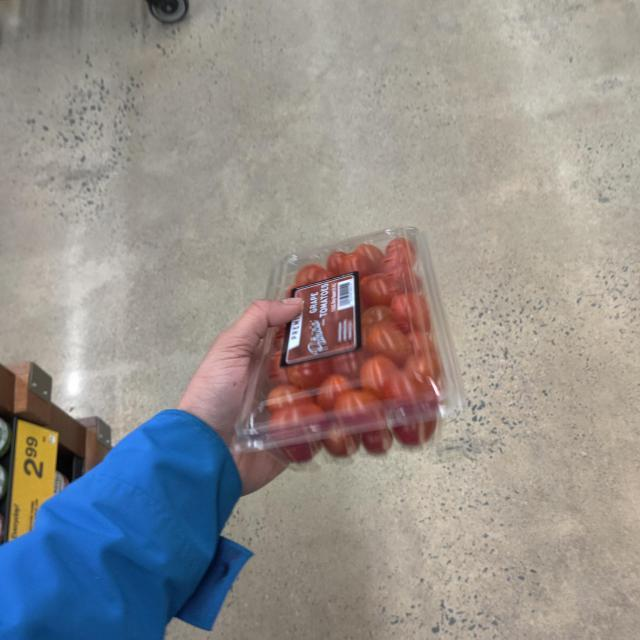Tomatoes: (229, 218, 476, 476)
